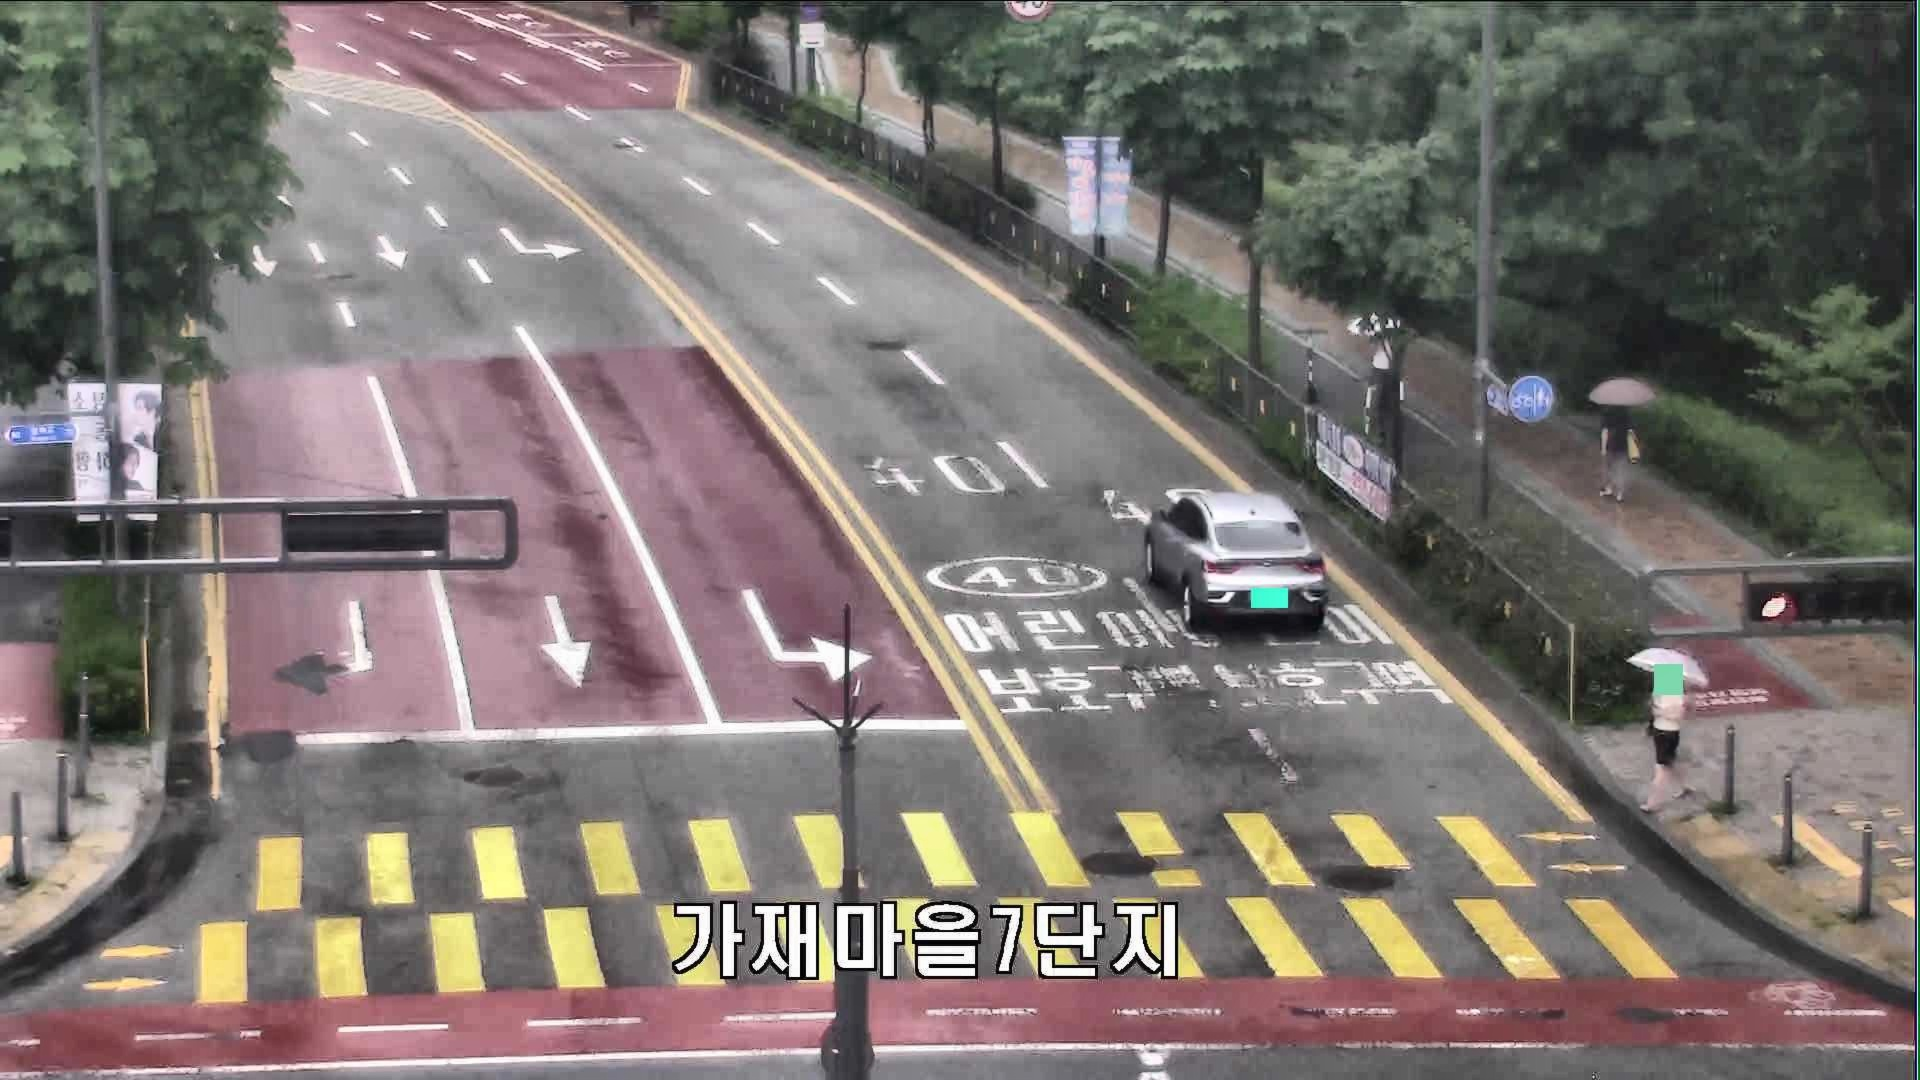um_sidewalk: (1625, 645, 1706, 808), (1592, 377, 1654, 495), (1352, 316, 1406, 419)
